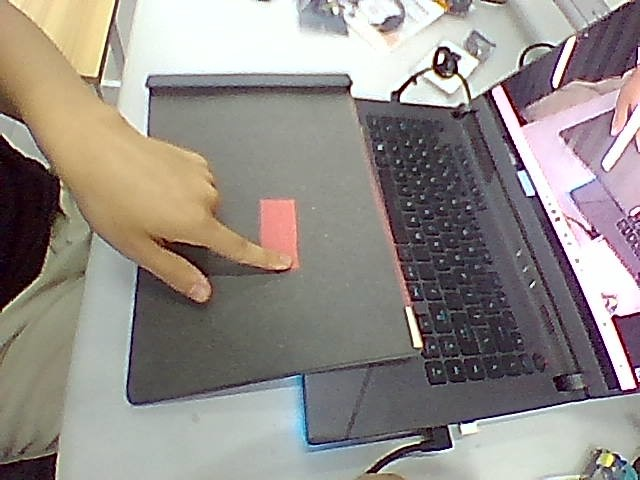card: (260, 199, 298, 270)
